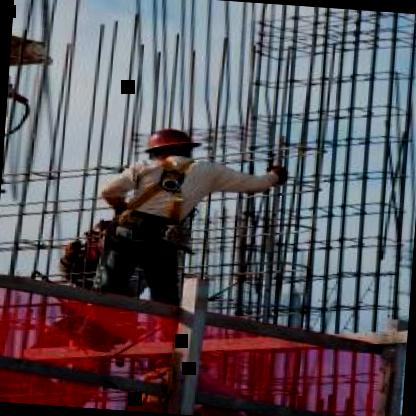helmet: (133, 120, 201, 177)
